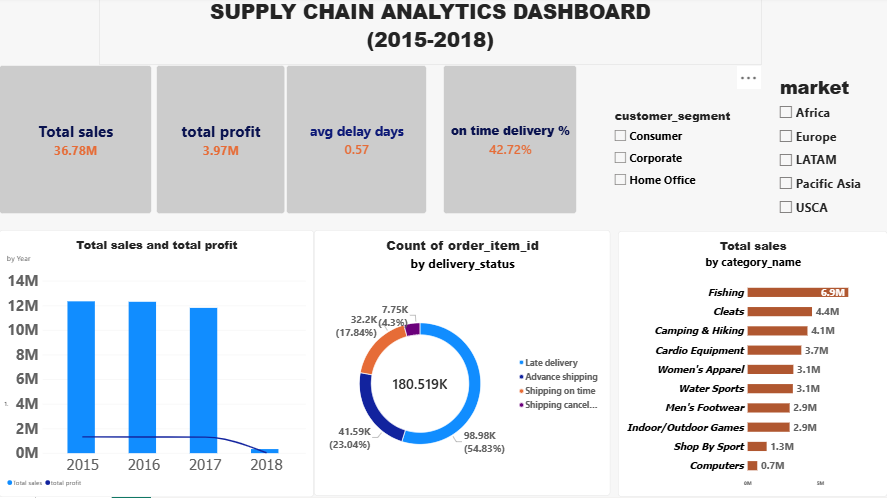

What the dashboard file says about the page in this screenshot:
{"tool":"powerbi","page":{"name":"Page 1","canvas":[1920,1080],"ordinal":0},"visuals":[{"type":"cardVisual","fields":{"Data":["fact_orders.Total sales"]},"box":[0,146.1,330.1,322.5],"z":0},{"type":"cardVisual","fields":{"Data":["fact_orders.total profit"]},"box":[340.2,146.1,279.7,322.5],"z":1000},{"type":"clusteredColumnChart","fields":{"Category":["fact_orders.shipping_mode"],"Y":["fact_orders.on time delivery %"]},"box":[871.8,763.5,280,280],"z":2000},{"type":"donutChart","fields":{"Category":["fact_orders.delivery_status"],"Y":["Count(fact_orders.order_item_id)"]},"box":[680.3,503.9,640,574.5],"z":3000},{"type":"clusteredBarChart","fields":{"Category":["dim_products.category_name"],"Y":["fact_orders.Total sales"]},"box":[1338,506.5,582,574.5],"z":4000},{"type":"lineStackedColumnComboChart","fields":{"Category":["fact_orders.order_date.Variation.Date Hierarchy.Year","fact_orders.order_date.Variation.Date Hierarchy.Quarter","fact_orders.order_date.Variation.Date Hierarchy.Month","fact_orders.order_date.Variation.Date Hierarchy.Day"],"Y":["fact_orders.Total sales"],"Y2":["fact_orders.total profit"]},"box":[0,503.9,680.3,577],"z":5000},{"type":"slicer","fields":{"Values":["fact_orders.market"]},"box":[1678.1,165.8,241.9,337.6],"z":6000},{"type":"slicer","fields":{"Values":["dim_customers.customer_segment"]},"box":[1321.3,239.9,327.6,267.1],"z":7000},{"type":"textbox","box":[10,870,280,210],"z":8000},{"type":"cardVisual","fields":{"Data":["fact_orders.avg delay days"]},"box":[619.8,146.1,304.9,322.5],"z":9000},{"type":"cardVisual","fields":{"Data":["fact_orders.on time delivery %"]},"box":[960,146.1,289.8,322.5],"z":10000},{"type":"textbox","box":[216.7,0,1431.2,146.1],"z":11000}]}

Visuals, with their boxes in screenshot pixels (x1, y1, x2, y2), scaled from the page's 1920x1080 canvas onto the 887x498 screenshot:
cardVisual - fact_orders.Total sales: {"left": 0, "top": 67, "right": 152, "bottom": 216}
cardVisual - fact_orders.total profit: {"left": 157, "top": 67, "right": 286, "bottom": 216}
clusteredColumnChart - fact_orders.shipping_mode x fact_orders.on time delivery %: {"left": 403, "top": 352, "right": 532, "bottom": 481}
donutChart - fact_orders.delivery_status x Count(fact_orders.order_item_id): {"left": 314, "top": 232, "right": 610, "bottom": 497}
clusteredBarChart - dim_products.category_name x fact_orders.Total sales: {"left": 618, "top": 234, "right": 886, "bottom": 497}
lineStackedColumnComboChart - fact_orders.order_date.Variation.Date Hierarchy.Year x fact_orders.order_date.Variation.Date Hierarchy.Quarter: {"left": 0, "top": 232, "right": 314, "bottom": 497}
slicer - fact_orders.market: {"left": 775, "top": 76, "right": 886, "bottom": 232}
slicer - dim_customers.customer_segment: {"left": 610, "top": 111, "right": 762, "bottom": 234}
textbox: {"left": 5, "top": 401, "right": 134, "bottom": 497}
cardVisual - fact_orders.avg delay days: {"left": 286, "top": 67, "right": 427, "bottom": 216}
cardVisual - fact_orders.on time delivery %: {"left": 444, "top": 67, "right": 577, "bottom": 216}
textbox: {"left": 100, "top": 0, "right": 761, "bottom": 67}
